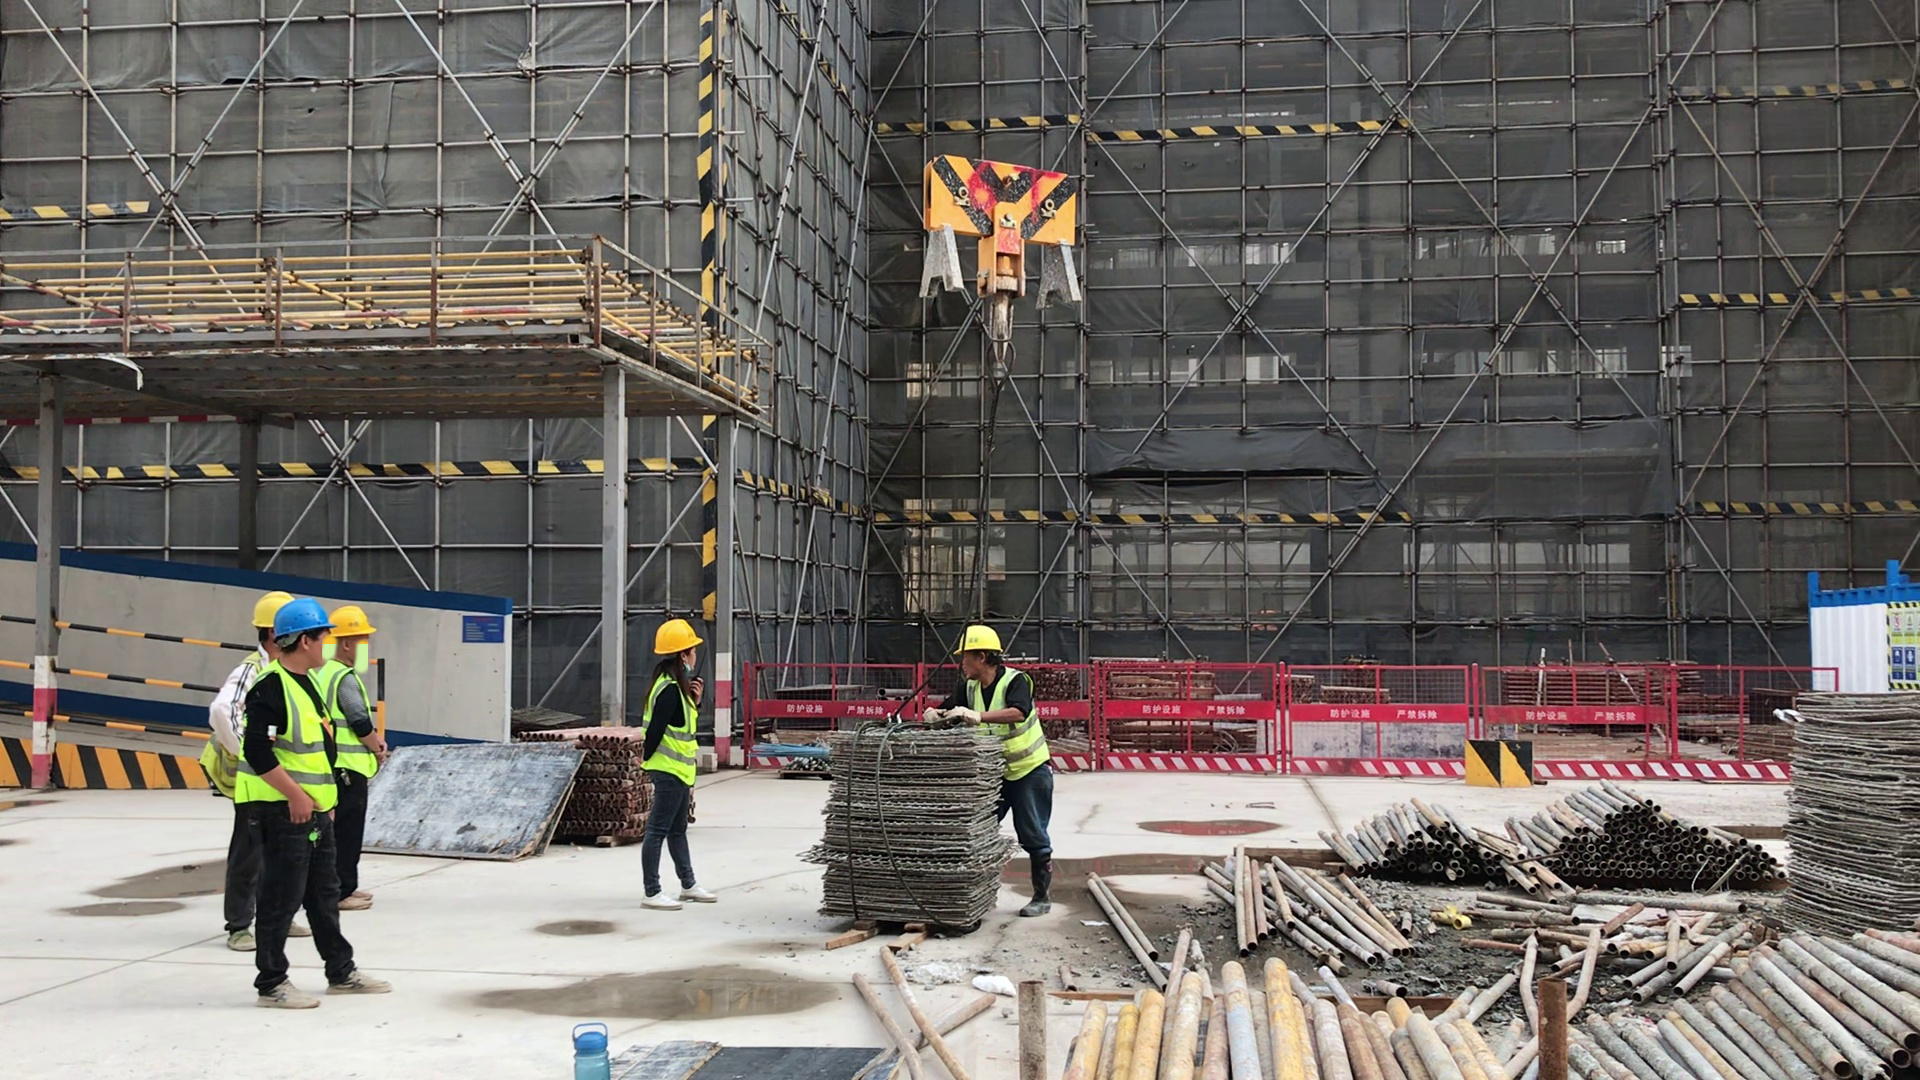fence: (744, 664, 1842, 780)
helmet: (274, 595, 331, 637), (652, 615, 702, 657), (950, 624, 1009, 660), (327, 599, 379, 639), (252, 587, 297, 627)
hook: (917, 153, 1086, 388)
person: (236, 608, 392, 1011), (923, 625, 1059, 916), (208, 592, 315, 957), (636, 619, 719, 912), (320, 606, 376, 911)
scaffold: (824, 731, 1000, 927), (1790, 704, 1920, 926), (577, 727, 644, 847)
vest: (239, 660, 339, 816), (965, 670, 1048, 779), (315, 657, 381, 780), (640, 676, 698, 787)
